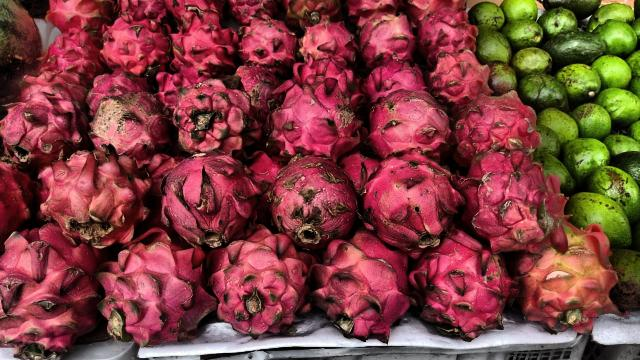buah-naga-belum-matang: (506, 218, 620, 330), (88, 90, 176, 156), (356, 9, 418, 70), (296, 18, 358, 64), (286, 1, 342, 23)
buah-naga-matang: (0, 227, 103, 360), (96, 243, 222, 343), (306, 239, 424, 339), (407, 237, 513, 341), (458, 146, 568, 246), (362, 148, 468, 248), (218, 232, 314, 342), (32, 160, 154, 242), (166, 154, 262, 246), (266, 70, 362, 160), (272, 155, 362, 251), (366, 80, 456, 160), (175, 84, 265, 159), (0, 94, 84, 162), (458, 93, 542, 150), (168, 15, 236, 76), (102, 22, 172, 74), (30, 26, 106, 70), (15, 69, 89, 111), (234, 18, 296, 66), (418, 14, 477, 64), (425, 55, 491, 96), (154, 68, 208, 112), (82, 70, 156, 100), (364, 56, 424, 90), (50, 0, 112, 32), (168, 0, 226, 20), (224, 0, 280, 20), (114, 1, 166, 21), (408, 0, 464, 16), (348, 1, 400, 17)
